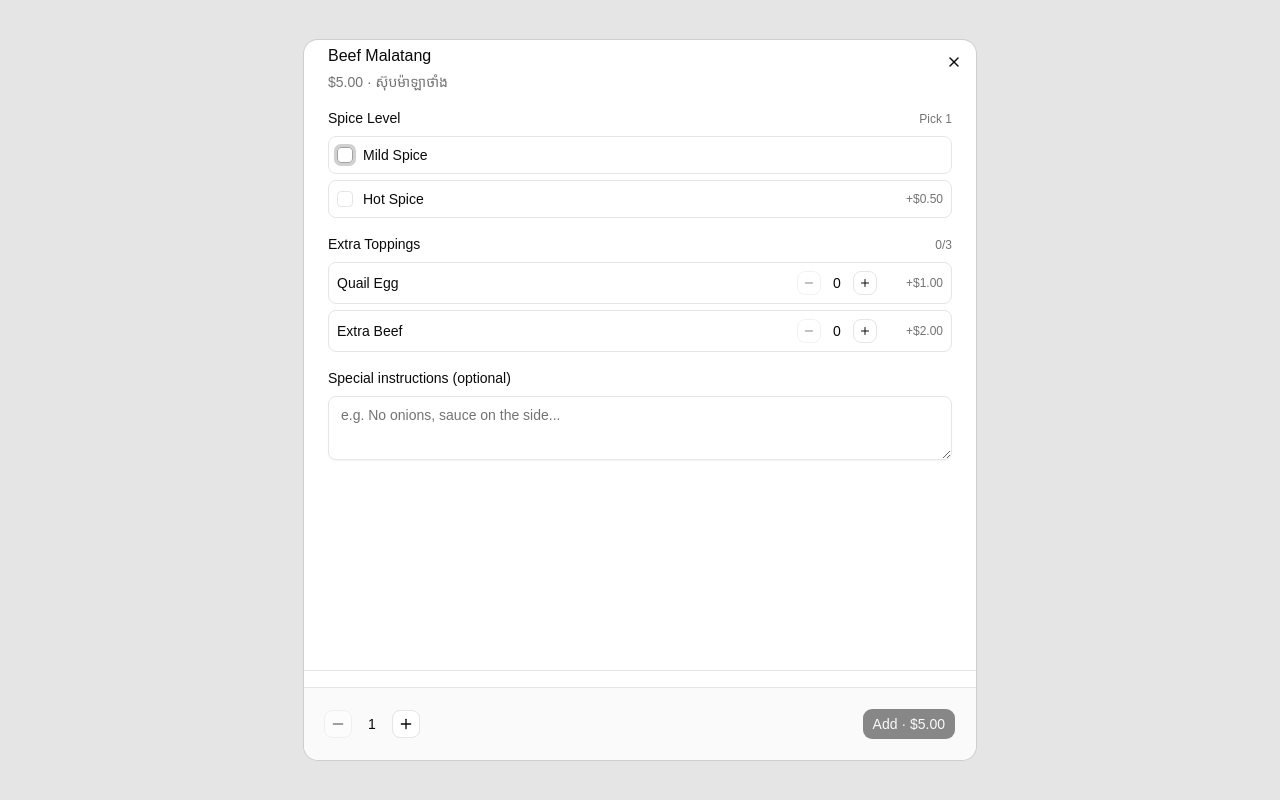
Test: <GuestItemDialog /> › allows adjusting item quantity and multiplies the total price
This screenshot has width=1280, height=800.
# Select required Spice Level
Click the text "Mild Spice" at [395, 155], box x1=363 y1=147 x2=428 y2=163
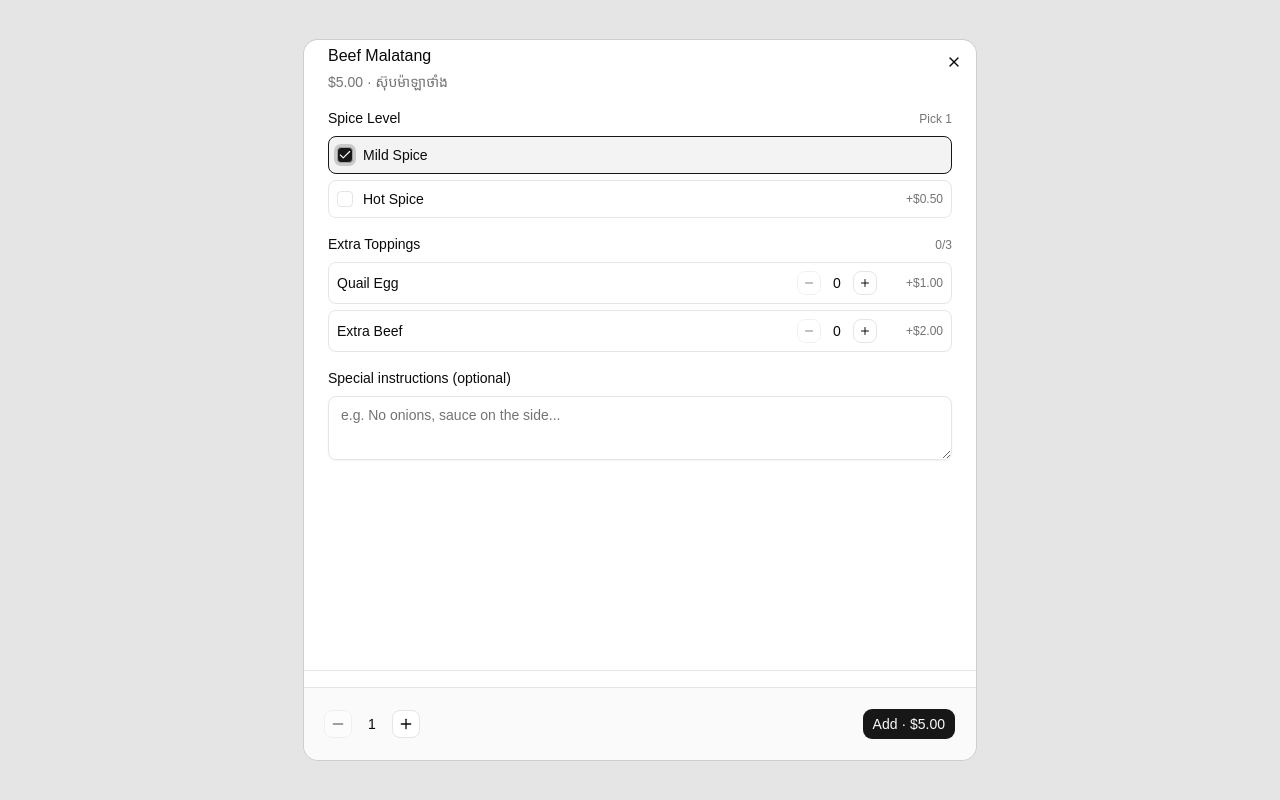
# Increase item quantity
Click the 7th button named "increase quantity" at [406, 724], box x1=392 y1=710 x2=420 y2=738
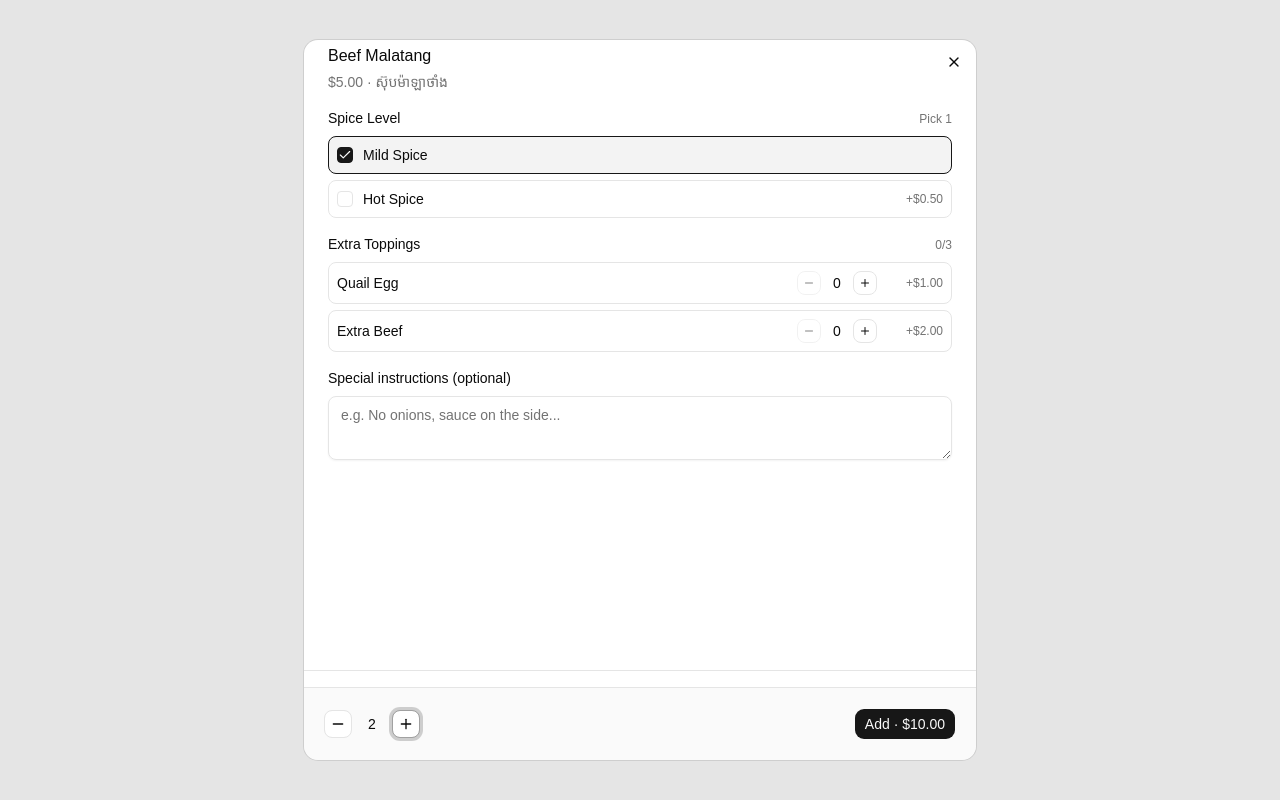
Expected: the button "Add · $10.00" is shown, x1=854 y1=708 x2=956 y2=740
# Decrease item quantity
Click the 6th button named "decrease quantity" at [338, 724], box x1=324 y1=710 x2=352 y2=738
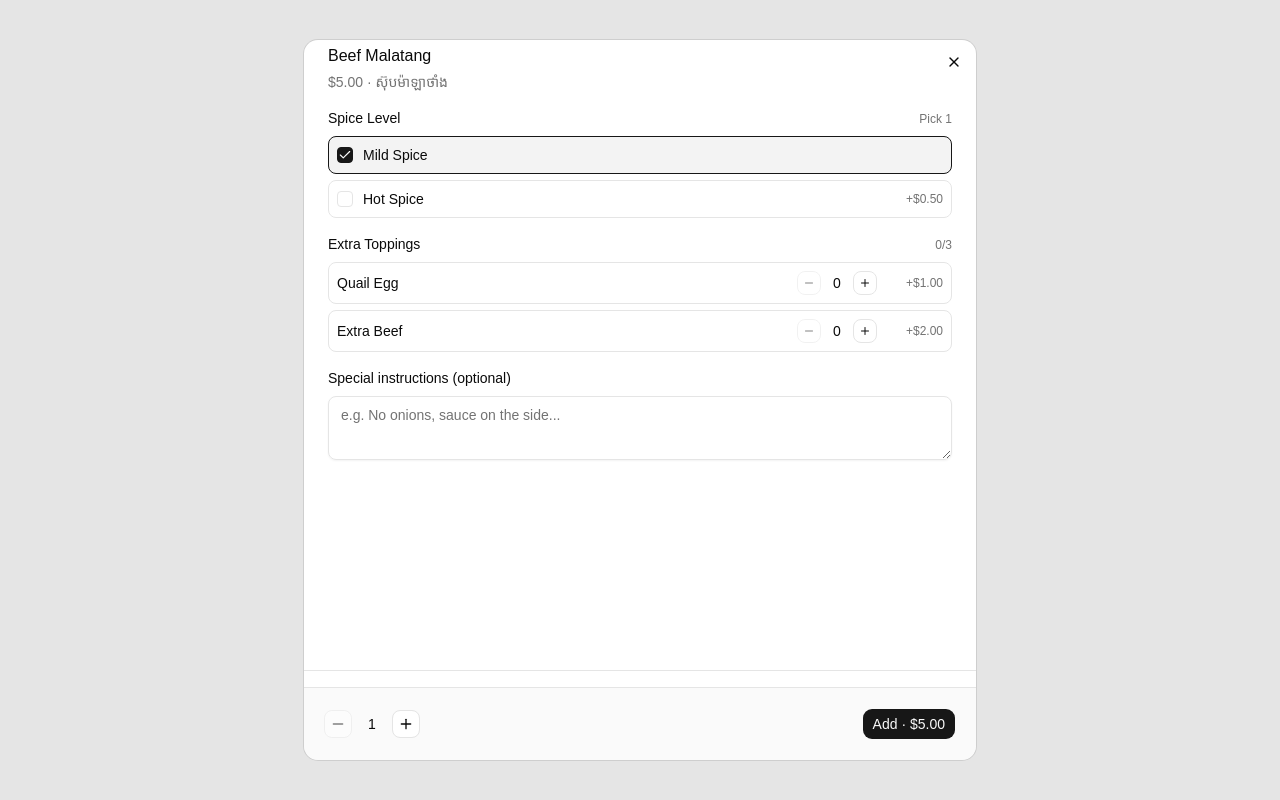
Expected: the button "Add · $5.00" is shown, x1=862 y1=708 x2=956 y2=740
